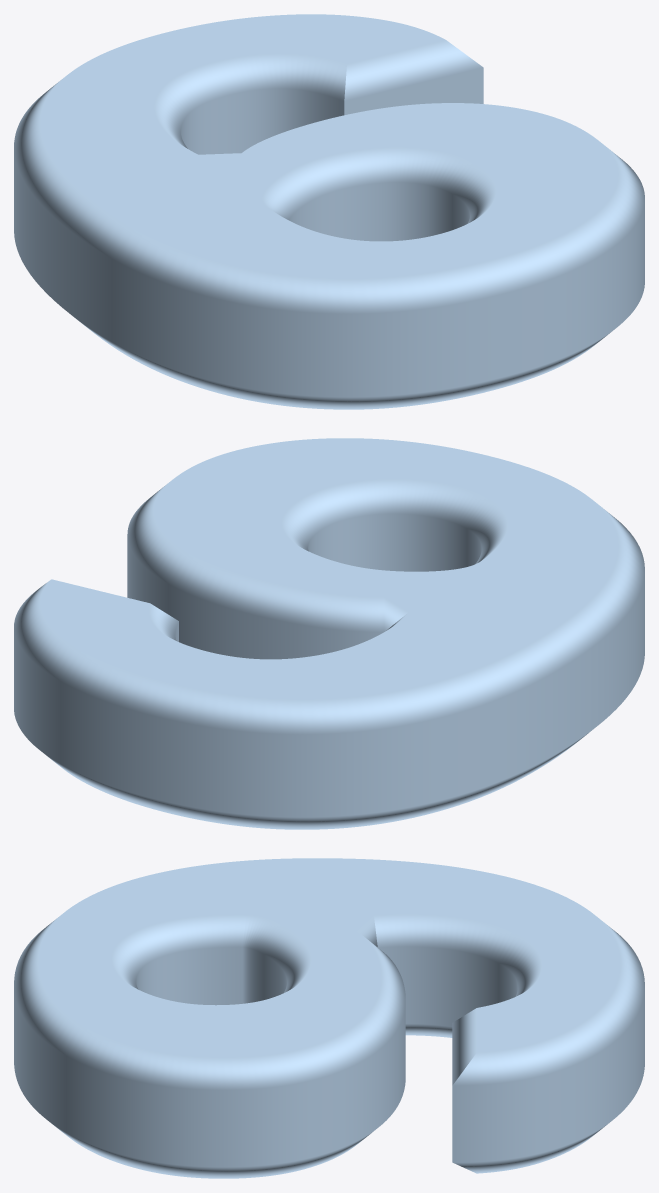
The picture shows the model from 3 angles, top to bottom: view 1: azimuth 30°, elevation 25°; view 2: azimuth 150°, elevation 25°; view 3: azimuth 270°, elevation 25°; orthographic projection. The views are drawn at different scales.
Parts seen in each view (by area): view 1: Text; view 2: Text; view 3: Text.
Part boxes in pixels (<box>): Text: <box>14,14,644,409</box>; Text: <box>14,438,644,829</box>; Text: <box>14,858,644,1178</box>.
Size of the model in its own units: 0.4301 by 0.11 by 0.5208.
